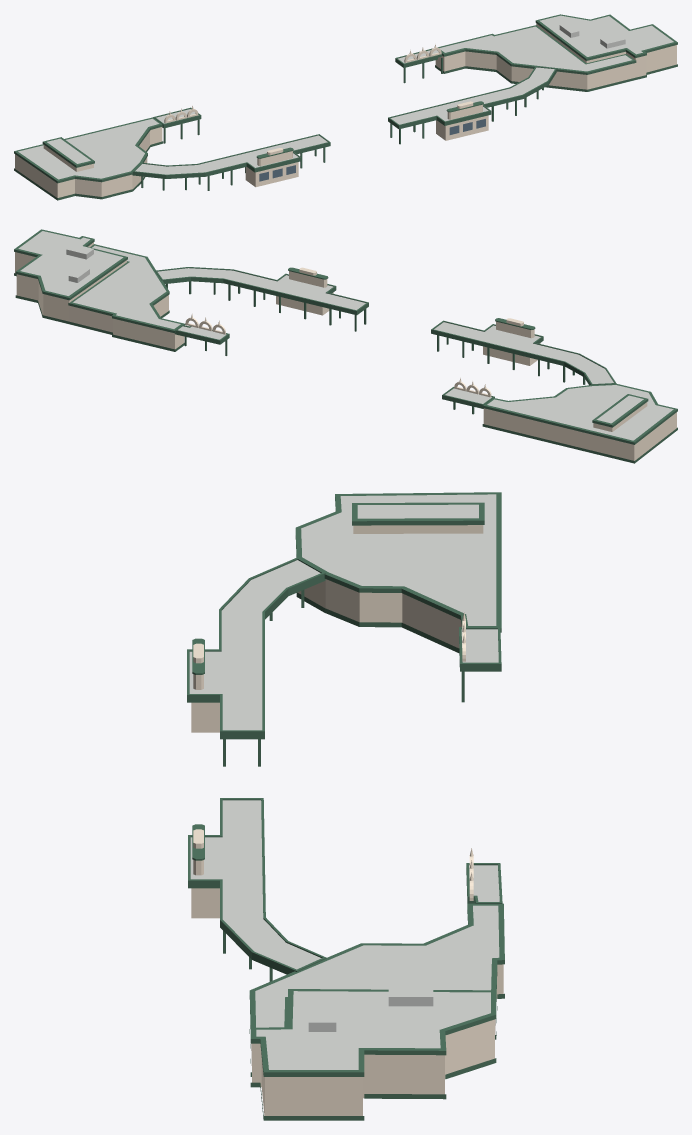
The model's file is wdw-mk-entrance.glb.
The picture shows the model from 3 angles, top to bottom: view 1: azimuth 30°, elevation 25°; view 2: azimuth 150°, elevation 25°; view 3: azimuth 270°, elevation 25°; orthographic projection. The views are drawn at different scales.
Visible parts, largest first — view 1: Magic Kingdom Entrance; view 2: Magic Kingdom Entrance; view 3: Magic Kingdom Entrance.
Part boxes in pixels (<box>): Magic Kingdom Entrance: <box>14,14,677,200</box>; Magic Kingdom Entrance: <box>14,229,677,463</box>; Magic Kingdom Entrance: <box>187,492,504,1120</box>.
Bounding box in the file's own units: 131 × 6.54 × 29.82.
